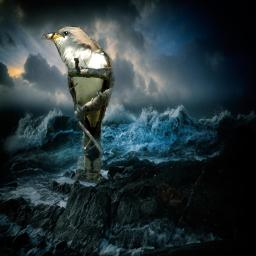Cuckoo: (41, 26, 115, 180)
